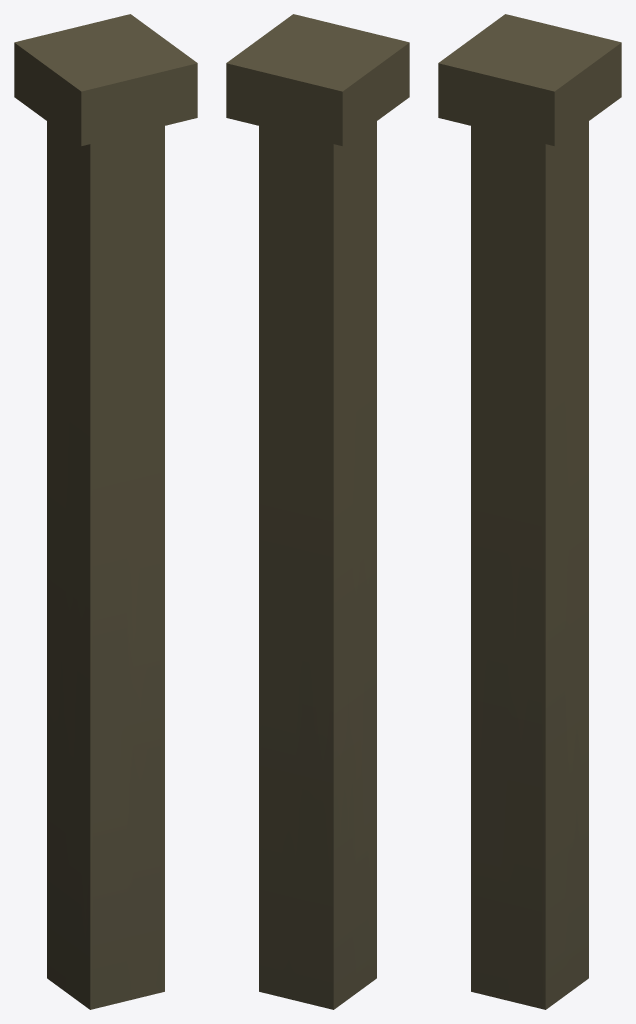
The model's file is RailBeam.glb.
3 views of the same model, side by side, from view 1: azimuth 30°, elevation 25°; view 2: azimuth 150°, elevation 25°; view 3: azimuth 330°, elevation 25° (orthographic).
Visible parts, largest first — view 1: RailCentral beam_Baked; view 2: RailCentral beam_Baked; view 3: RailCentral beam_Baked.
Boxes of the visible parts, box(x1,y1,x2,y2) form: RailCentral beam_Baked: box(14, 14, 197, 1009); RailCentral beam_Baked: box(226, 14, 409, 1009); RailCentral beam_Baked: box(438, 14, 621, 1009).
Size of the model in its own units: 0.5613 by 4.29 by 0.5613.
Materials: 1 (1 with a texture image).
